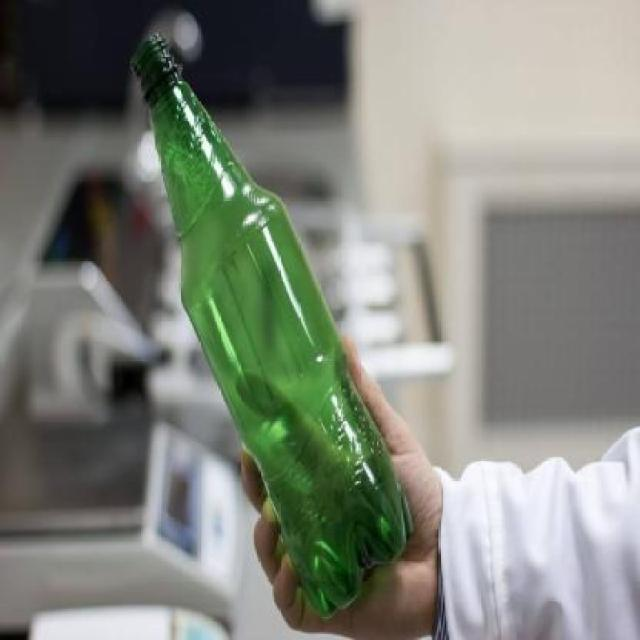Pet_Bottle: (126, 20, 414, 622)
